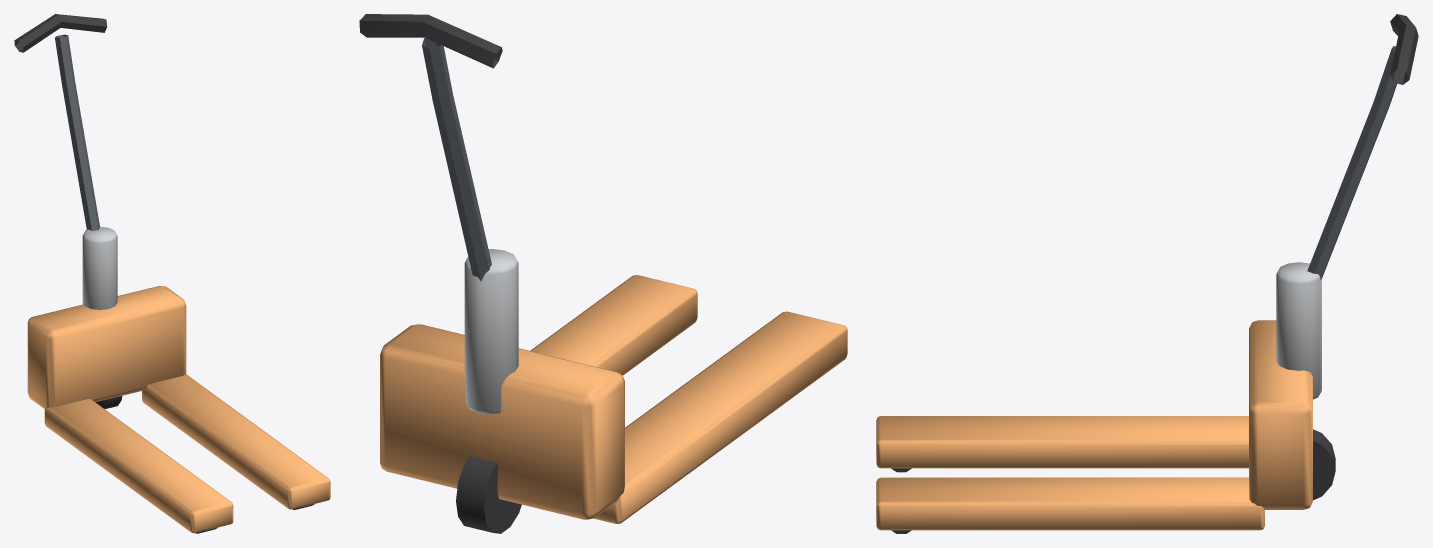
Rendered from pallet_jack.glb.
The picture shows the model from 3 angles, left to right: view 1: azimuth 30°, elevation 25°; view 2: azimuth 150°, elevation 25°; view 3: azimuth 270°, elevation 25°; orthographic projection. The views are drawn at different scales.
Visible parts, largest first — view 1: Body; view 2: Body; view 3: Body.
Part boxes in pixels (x1,y1,x2,y2): Body: (14, 14, 330, 533); Body: (359, 14, 847, 533); Body: (876, 14, 1418, 533).
Bounding box in the file's own units: 0.46 × 1.14 × 1.19.
